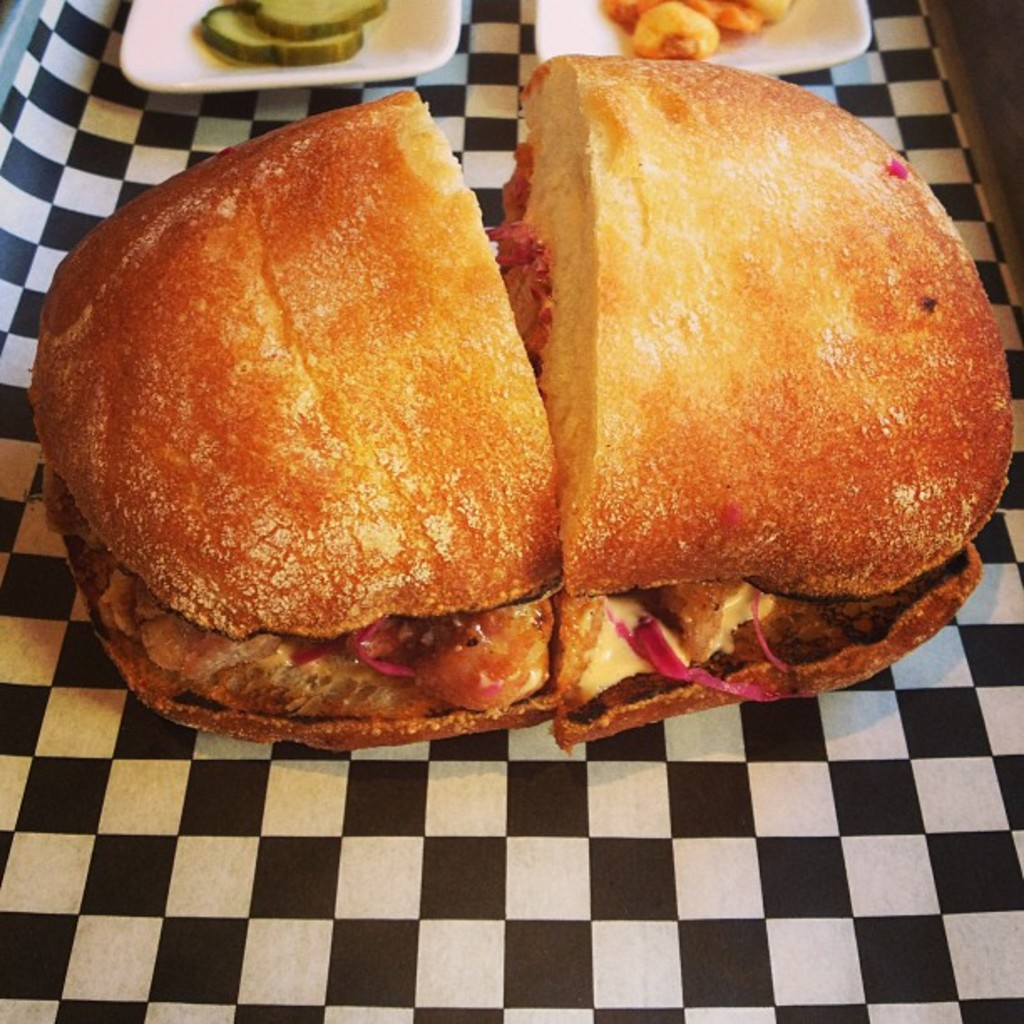Hamburger: (30, 53, 1015, 752)
